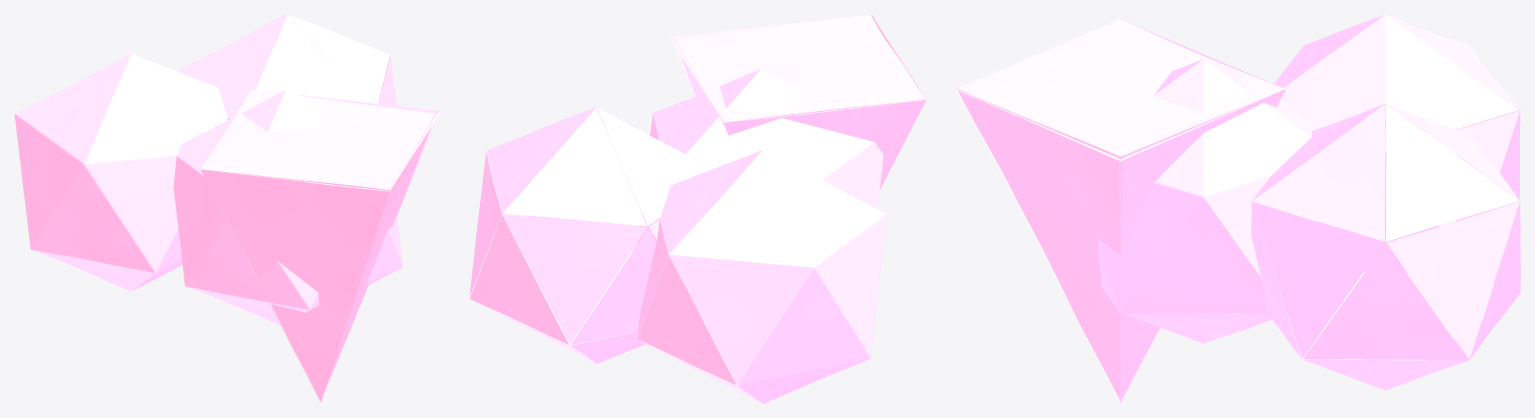
File: heart.glb
3 views of the same model, side by side, from view 1: azimuth 30°, elevation 25°; view 2: azimuth 150°, elevation 25°; view 3: azimuth 270°, elevation 25° (orthographic). The views are drawn at different scales.
Visible parts, largest first — view 1: PangHeartLobe0; view 2: PangHeartLobe0; view 3: PangHeartLobe0.
Part boxes in pixels (bbox=[...]): PangHeartLobe0: bbox=[14, 14, 440, 403]; PangHeartLobe0: bbox=[469, 14, 926, 403]; PangHeartLobe0: bbox=[955, 14, 1520, 403].
Size of the model in its own units: 0.6005 by 0.4605 by 0.6834.
